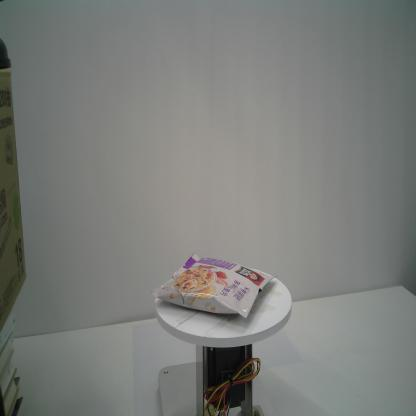Instant Drink: (149, 251, 277, 320)
